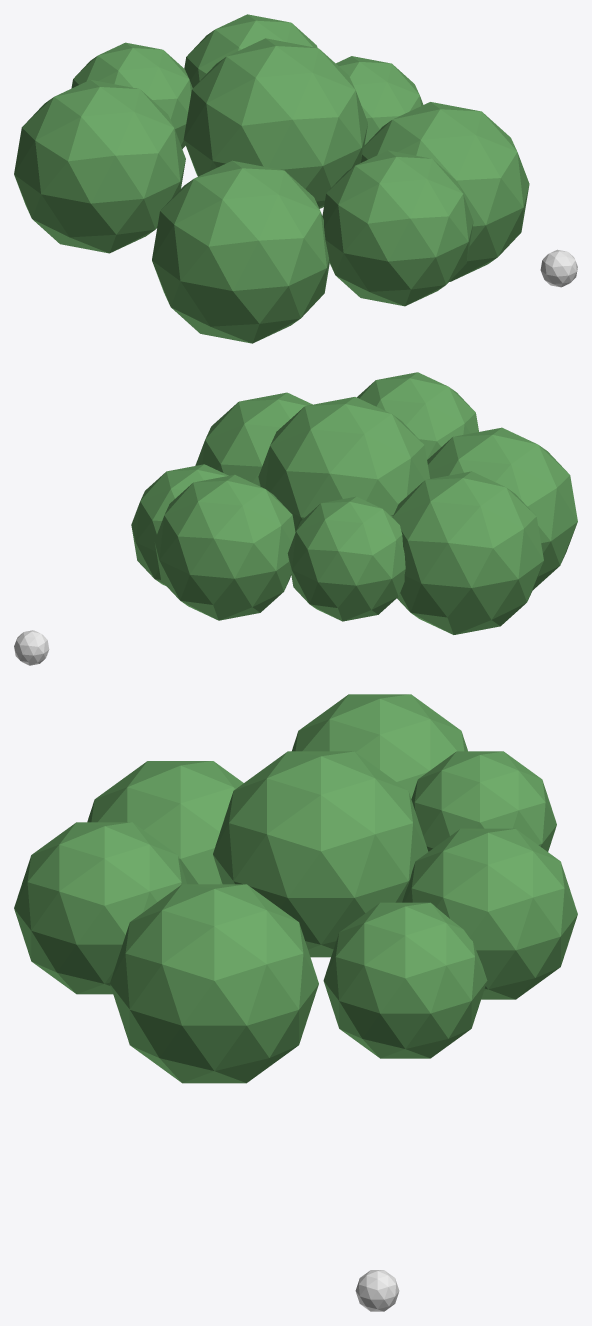
The model's file is tree_3.glb.
The picture shows the model from 3 angles, top to bottom: view 1: azimuth 30°, elevation 25°; view 2: azimuth 150°, elevation 25°; view 3: azimuth 270°, elevation 25°; orthographic projection. The views are drawn at different scales.
Visible parts, largest first — view 1: Icosphere.006, Icosphere.004, Icosphere.008, Icosphere.001, Icosphere, Icosphere.005, Icosphere.003, Icosphere.007, Icosphere.002; view 2: Icosphere.004, Icosphere.007, Icosphere.008, Icosphere.005, Icosphere.006, Icosphere, Icosphere.001, Icosphere.003, Icosphere.002; view 3: Icosphere, Icosphere.008, Icosphere.003, Icosphere.001, Icosphere.007, Icosphere.006, Icosphere.005, Icosphere.004, Icosphere.002.
Part boxes in pixels (box(x1,y1,x2,y2)): Icosphere.006: box(152, 160, 329, 343); Icosphere.004: box(14, 80, 185, 253); Icosphere.008: box(183, 38, 367, 208); Icosphere.001: box(322, 150, 473, 306); Icosphere: box(361, 102, 529, 281); Icosphere.005: box(71, 42, 192, 148); Icosphere.003: box(336, 56, 423, 145); Icosphere.007: box(184, 14, 317, 87); Icosphere.002: box(540, 249, 577, 287); Icosphere.004: box(392, 471, 543, 634); Icosphere.007: box(154, 474, 295, 620); Icosphere.008: box(258, 397, 429, 531); Icosphere.005: box(287, 496, 405, 621); Icosphere.006: box(427, 427, 577, 589); Icosphere: box(195, 392, 312, 486); Icosphere.001: box(357, 372, 478, 459); Icosphere.003: box(131, 464, 228, 585); Icosphere.002: box(14, 630, 49, 665); Icosphere: box(110, 884, 318, 1083); Icosphere.008: box(213, 751, 428, 957); Icosphere.003: box(323, 902, 487, 1058); Icosphere.001: box(14, 822, 186, 994); Icosphere.007: box(402, 828, 577, 999); Icosphere.006: box(87, 761, 243, 884); Icosphere.005: box(411, 751, 556, 851); Icosphere.004: box(292, 694, 467, 798); Icosphere.002: box(355, 1270, 399, 1311).
Size of the model in its own units: 32.98 by 19.21 by 25.7.
